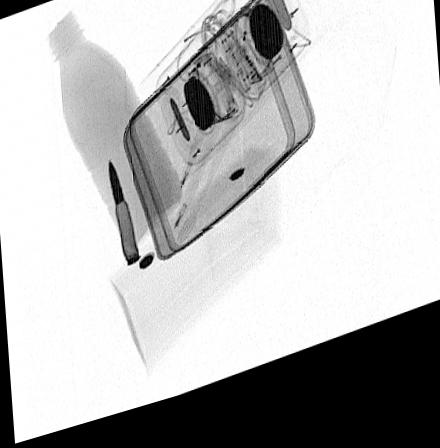Bullet: (107, 167, 140, 273)
